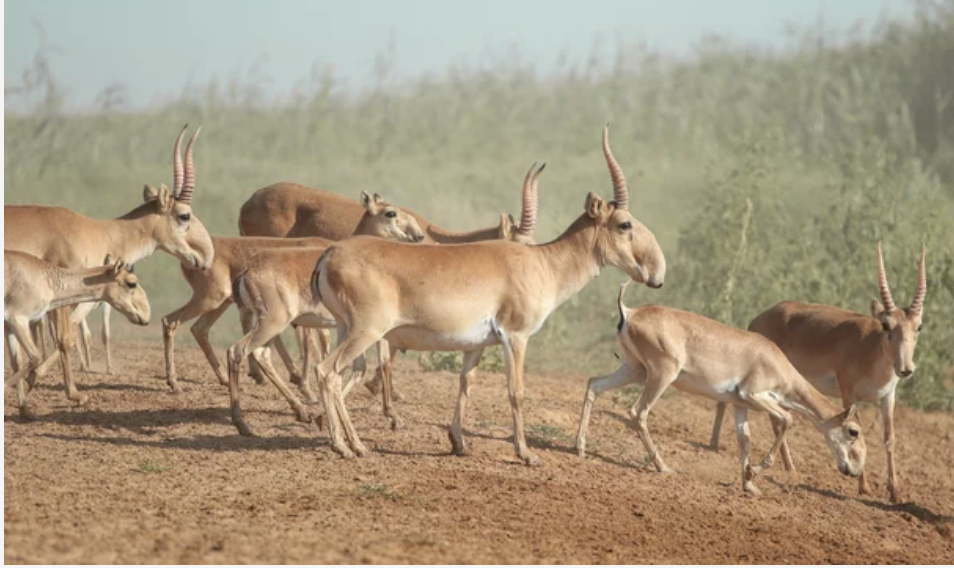saiga: (315, 124, 668, 455)
